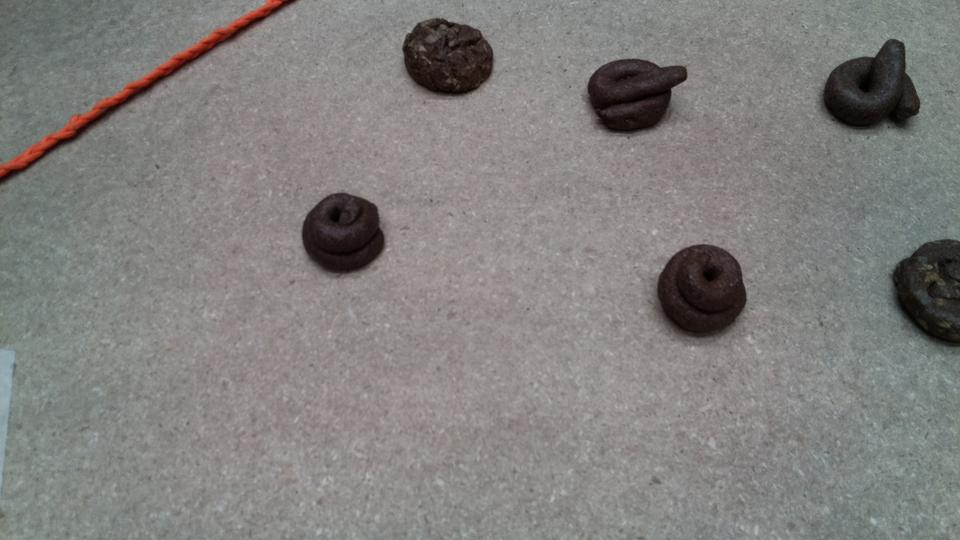poop: (651, 238, 755, 342), (820, 34, 925, 136), (397, 12, 505, 102), (587, 52, 690, 141), (889, 230, 960, 350), (298, 187, 394, 275)
rope: (132, 26, 223, 106), (59, 76, 154, 145), (4, 106, 78, 192), (205, 1, 301, 57)
